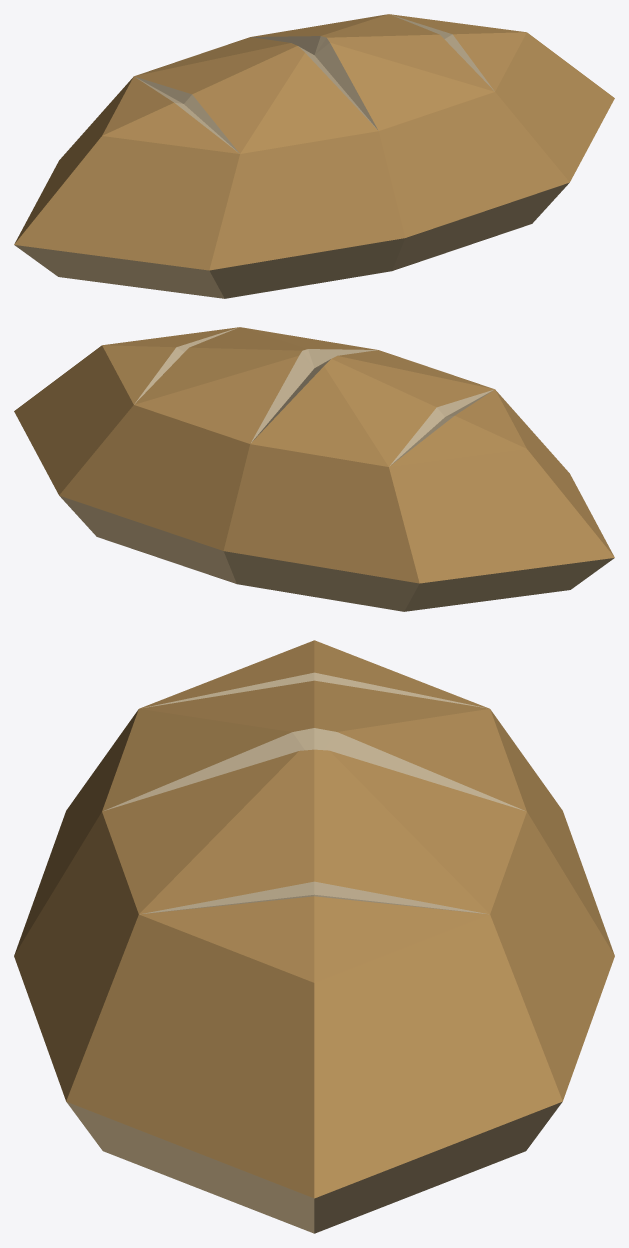
File: Bread2.fbx
3 renders of one model, top to bottom at view 1: azimuth 30°, elevation 25°; view 2: azimuth 150°, elevation 25°; view 3: azimuth 270°, elevation 25°, orthographic. The views are drawn at different scales.
Parts seen in each view (by area): view 1: Cube; view 2: Cube; view 3: Cube.
Part boxes in pixels (<box>): Cube: <box>14,14,614,298</box>; Cube: <box>14,327,614,611</box>; Cube: <box>14,640,614,1233</box>.
Bounding box in the file's own units: 0.64 × 0.1833 × 0.3353.
